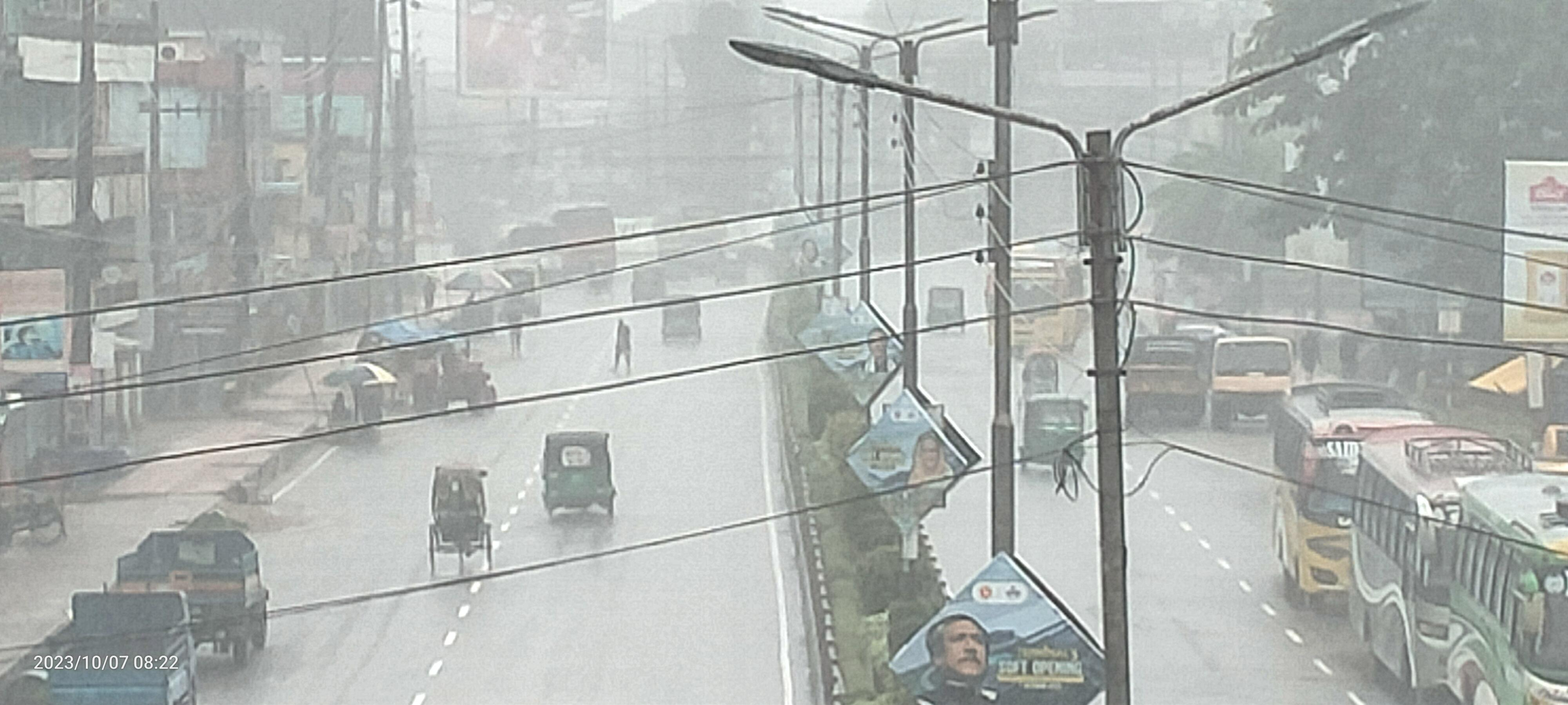Bus: (1245, 373, 1449, 642), (1328, 414, 1504, 700), (1438, 451, 1568, 705), (961, 227, 1099, 389), (528, 191, 622, 285)
Truck: (91, 506, 323, 669), (2, 564, 218, 705), (1196, 316, 1328, 436), (1109, 315, 1221, 453)
